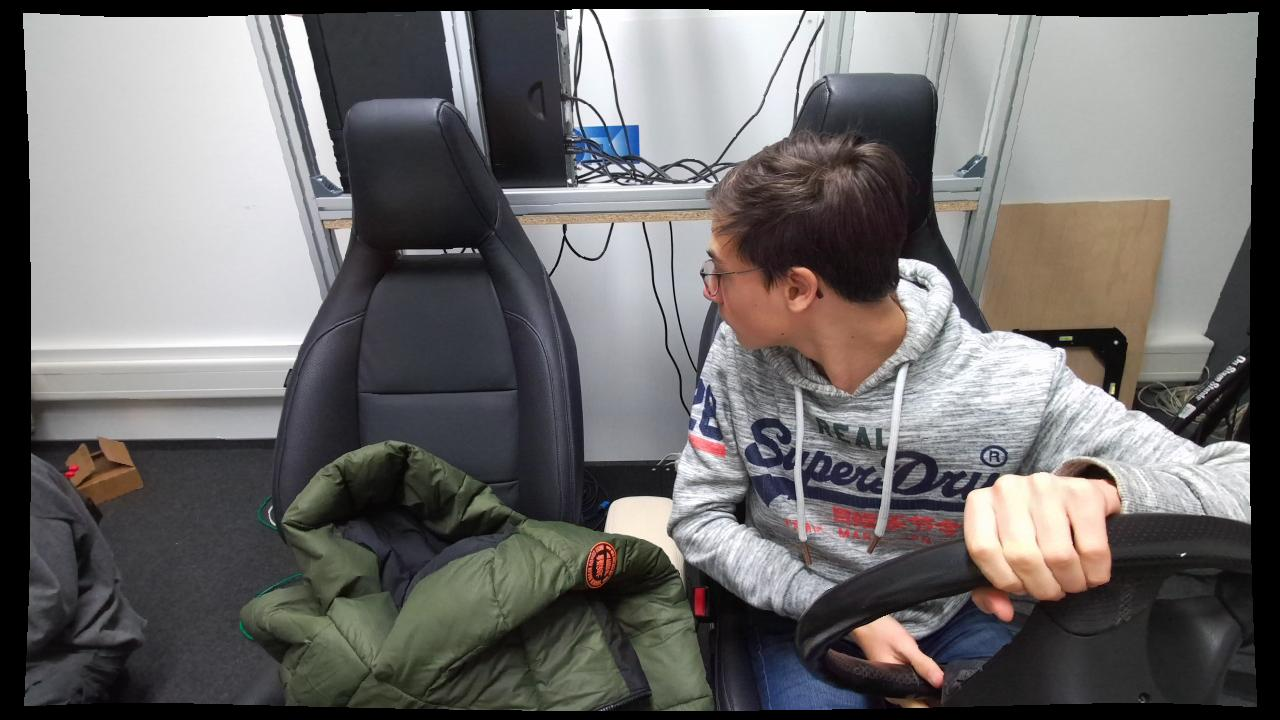Distracted: (659, 133, 1073, 711)
